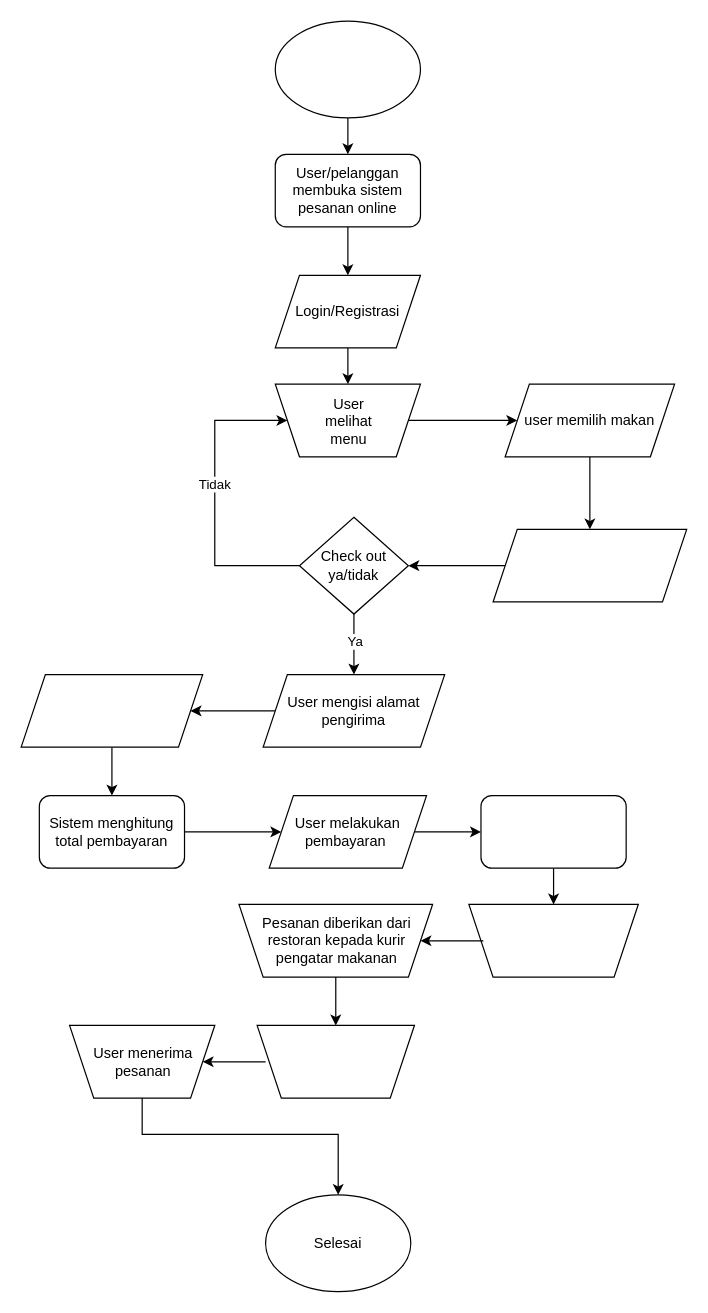
The diagram is 708 pixels wide and 1313 high, and some of its shapes have lost their labels. Each missing label, with the box of its shape:
Admin memproses pesanan (pesanan sedang dimasak): (468, 903, 638, 977)
Kurir mengantar pesanan ke User: (256, 1024, 414, 1098)
Mulai: (274, 20, 420, 118)
Pesan diterima oleh admin restoran: (480, 794, 626, 868)
User memilih metode pembayaran: (20, 673, 203, 747)
User menambahkan ke dalam keranjang: (492, 528, 687, 602)
